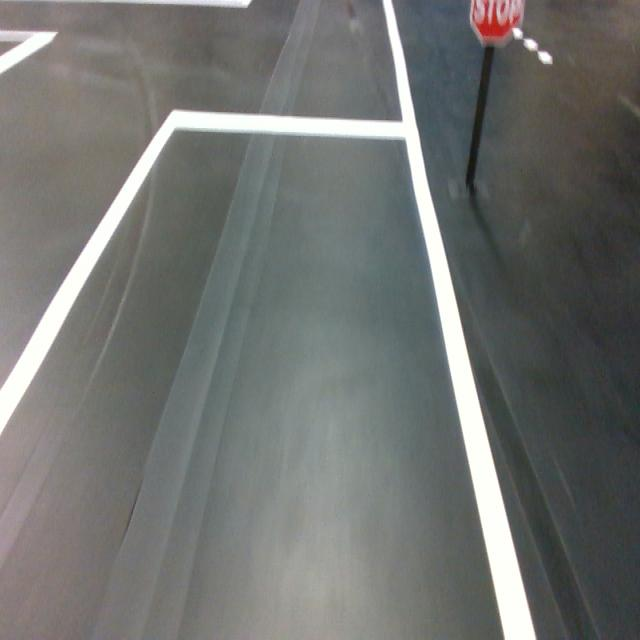stop-sign: (468, 0, 527, 48)
